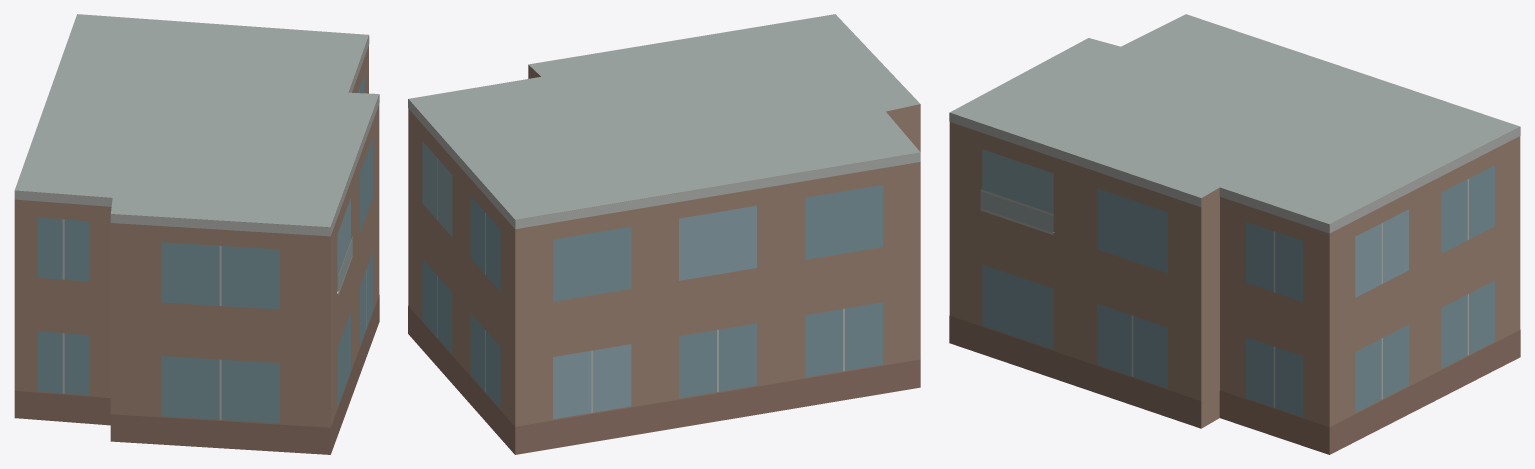
The model's file is survey-upis-32653157.glb.
The picture shows the model from 3 angles, left to right: view 1: azimuth 30°, elevation 25°; view 2: azimuth 150°, elevation 25°; view 3: azimuth 270°, elevation 25°; orthographic projection. The views are drawn at different scales.
Parts seen in each view (by area): view 1: survey-upis-32653157.tmp; view 2: survey-upis-32653157.tmp; view 3: survey-upis-32653157.tmp.
Part boxes in pixels (x1,y1,x2,y2): survey-upis-32653157.tmp: (14, 14, 379, 454); survey-upis-32653157.tmp: (408, 14, 920, 454); survey-upis-32653157.tmp: (949, 14, 1520, 454).
Bounding box in the file's own units: 11.94 × 6.1 × 13.7.
